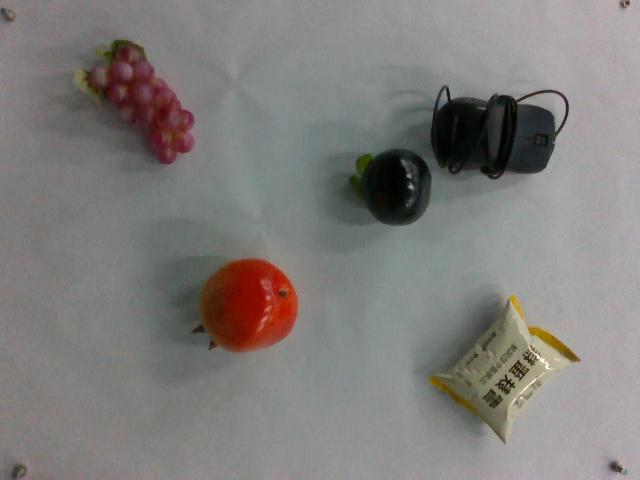dessert: (436, 301, 575, 444)
grape: (77, 39, 200, 171)
mangosteen: (345, 145, 432, 228)
mouse: (431, 83, 578, 180)
pomegranate: (190, 256, 301, 355)
